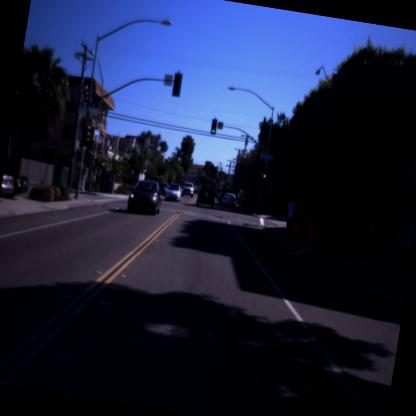trafficlight: (209, 119, 218, 136), (260, 165, 269, 180)
